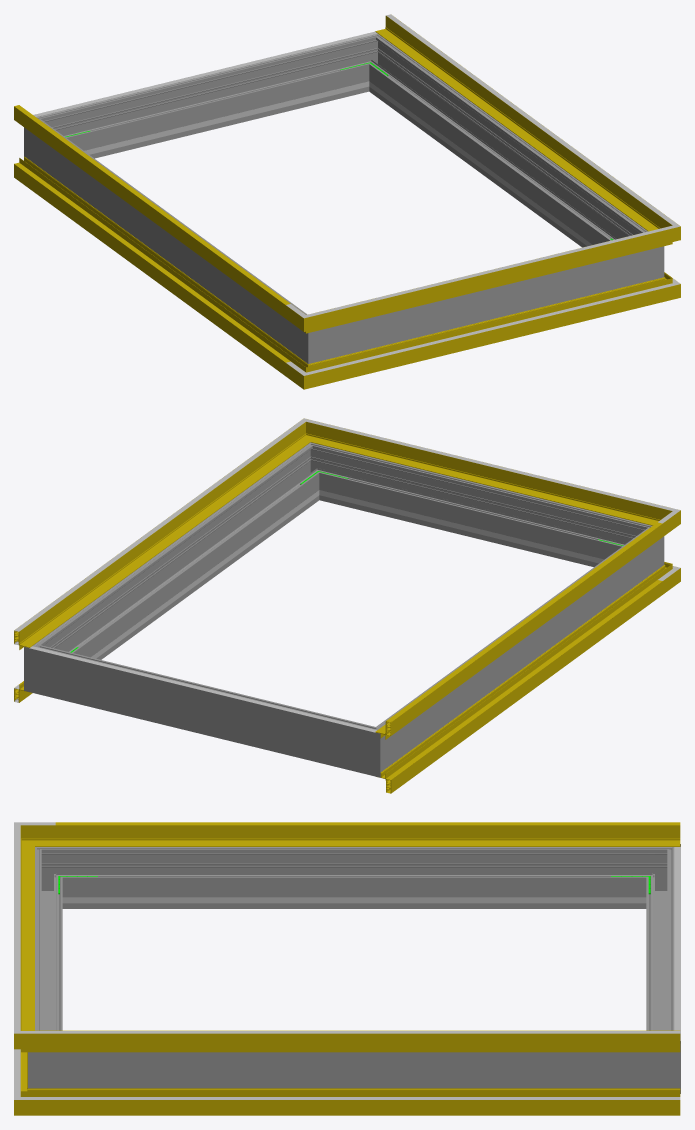
3 renders of one model, top to bottom at view 1: azimuth 30°, elevation 25°; view 2: azimuth 150°, elevation 25°; view 3: azimuth 270°, elevation 25°, orthographic. The views are drawn at different scales.
Visible parts, largest first — view 1: 3DGeom-276, 3DGeom-297, 3DGeom-298, 3DGeom-268, 3DGeom-90, 3DGeom-85, 3DGeom-58, 3DGeom-56, 3DGeom-50, 3DGeom-270, 3DGeom-105, 3DGeom-71 (+13 smaller); view 2: 3DGeom-298, 3DGeom-297, 3DGeom-276, 3DGeom-268, 3DGeom-85, 3DGeom-58, 3DGeom-56, 3DGeom-50, 3DGeom-278, 3DGeom-284, 3DGeom-71, 3DGeom-105 (+9 smaller); view 3: 3DGeom-268, 3DGeom-297, 3DGeom-97, 3DGeom-50, 3DGeom-58, 3DGeom-276, 3DGeom-298, 3DGeom-232, 3DGeom-56, 3DGeom-71, 3DGeom-64, 3DGeom-98 (+9 smaller).
Part boxes in pixels (<box>): 3DGeom-276: <box>58,40,363,158</box>; 3DGeom-297: <box>372,45,640,247</box>; 3DGeom-298: <box>339,254,632,356</box>; 3DGeom-268: <box>42,128,300,350</box>; 3DGeom-90: <box>329,282,649,381</box>; 3DGeom-85: <box>14,156,295,376</box>; 3DGeom-58: <box>375,16,659,230</box>; 3DGeom-56: <box>332,234,649,326</box>; 3DGeom-50: <box>14,105,285,318</box>; 3DGeom-270: <box>290,309,339,363</box>; 3DGeom-105: <box>14,162,290,362</box>; 3DGeom-71: <box>14,105,290,304</box>; 3DGeom-298: <box>324,449,629,566</box>; 3DGeom-297: <box>47,453,316,659</box>; 3DGeom-276: <box>55,650,354,769</box>; 3DGeom-268: <box>388,536,646,759</box>; 3DGeom-85: <box>377,573,662,793</box>; 3DGeom-58: <box>14,432,301,649</box>; 3DGeom-56: <box>326,428,646,522</box>; 3DGeom-50: <box>375,523,662,739</box>; 3DGeom-278: <box>349,718,398,777</box>; 3DGeom-284: <box>24,635,60,698</box>; 3DGeom-71: <box>386,522,662,722</box>; 3DGeom-105: <box>386,580,662,780</box>; 3DGeom-268: <box>69,847,639,908</box>; 3DGeom-297: <box>69,1052,639,1088</box>; 3DGeom-97: <box>55,1088,680,1115</box>; 3DGeom-50: <box>55,825,680,846</box>; 3DGeom-58: <box>55,1030,680,1052</box>; 3DGeom-276: <box>646,861,674,1030</box>; 3DGeom-298: <box>35,861,62,1030</box>; 3DGeom-232: <box>103,897,605,903</box>; 3DGeom-56: <box>20,840,34,1030</box>; 3DGeom-71: <box>55,822,680,825</box>; 3DGeom-64: <box>55,1031,680,1033</box>; 3DGeom-98: <box>55,1097,680,1099</box>.
Bounding box in the file's own units: 1.83 × 0.3303 × 2.44.
